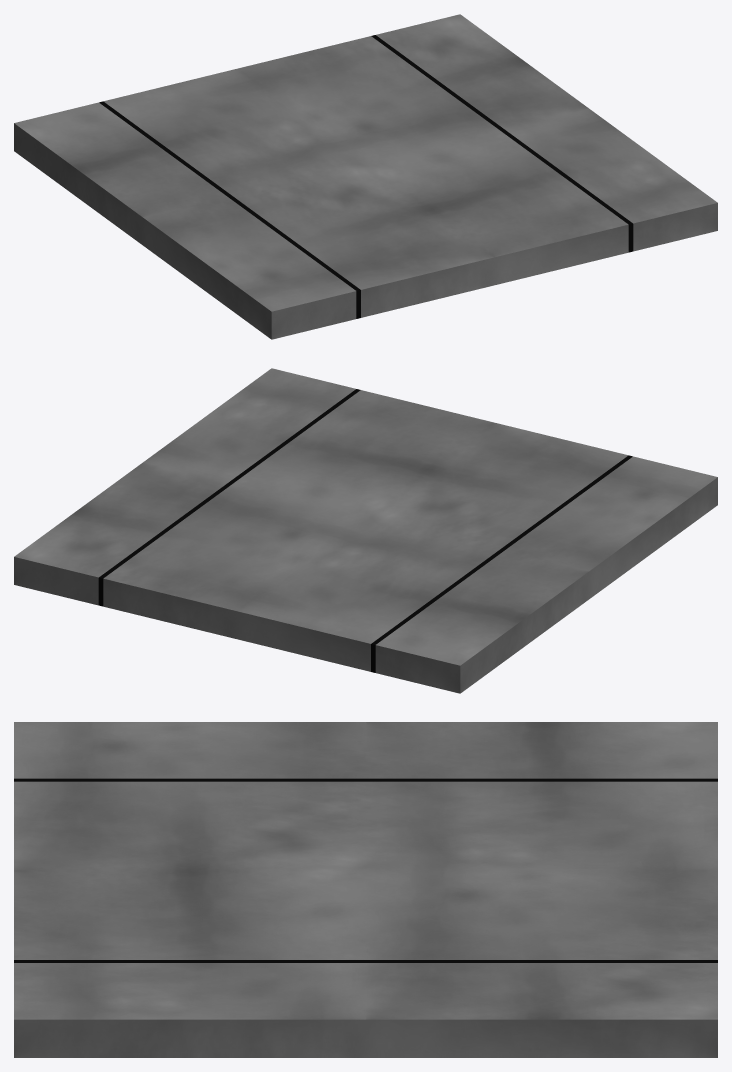
File: Dirty Carbon Floor M.fbx
The picture shows the model from 3 angles, top to bottom: view 1: azimuth 30°, elevation 25°; view 2: azimuth 150°, elevation 25°; view 3: azimuth 270°, elevation 25°; orthographic projection. The views are drawn at different scales.
Visible parts, largest first — view 1: dirty carbon dark grey Mesh (1), dirty carbon grey Mesh (1), white led Mesh (1); view 2: dirty carbon dark grey Mesh (1), dirty carbon grey Mesh (1), white led Mesh (1); view 3: dirty carbon dark grey Mesh (1), dirty carbon grey Mesh (1), white led Mesh (1).
Part boxes in pixels (x1,y1,x2,y2): dirty carbon dark grey Mesh (1): (103, 36, 628, 317); dirty carbon grey Mesh (1): (14, 14, 717, 339); white led Mesh (1): (99, 35, 633, 318); dirty carbon dark grey Mesh (1): (103, 390, 628, 671); dirty carbon grey Mesh (1): (14, 368, 717, 693); white led Mesh (1): (98, 389, 632, 672); dirty carbon dark grey Mesh (1): (14, 781, 717, 959); dirty carbon grey Mesh (1): (14, 722, 717, 1057); white led Mesh (1): (14, 778, 717, 962).
Size of what is drawn, in the model's own units: 5 by 0.3 by 5.
